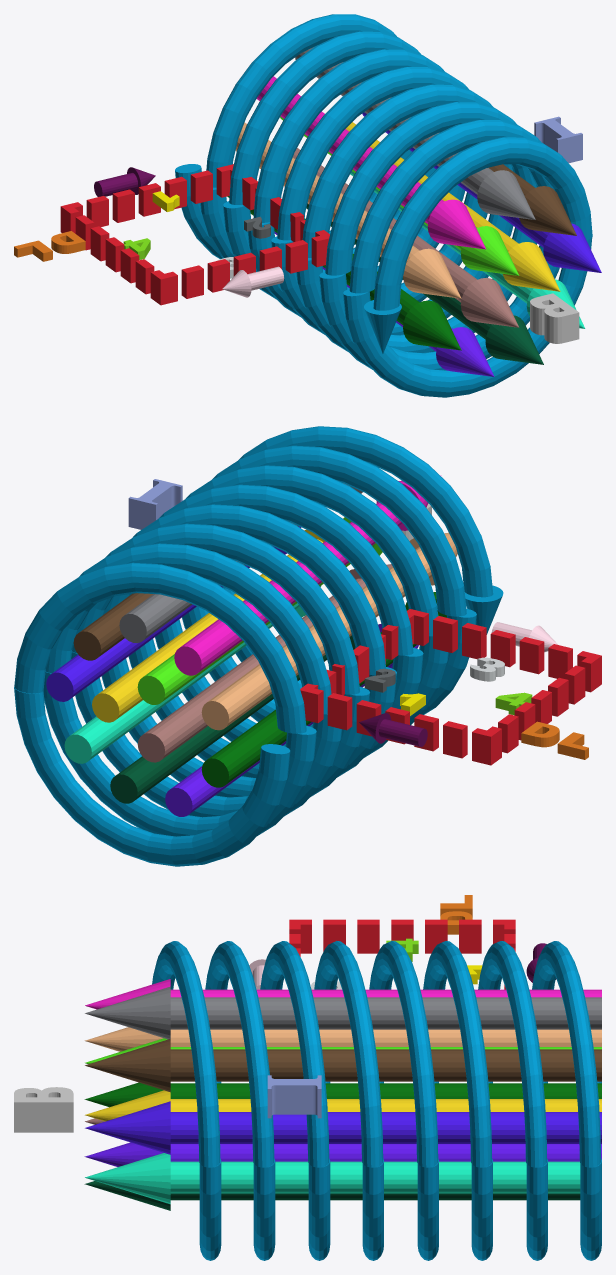
The model's file is Solenoid.obj.
The picture shows the model from 3 angles, top to bottom: view 1: azimuth 30°, elevation 25°; view 2: azimuth 150°, elevation 25°; view 3: azimuth 270°, elevation 25°; orthographic projection. The views are drawn at different scales.
Parts seen in each view (by area): view 1: group_0_40919, group_0_15277357, group_0_16064460, group_0_11238520, group_0_8422023, group_0_15774847, group_0_350519, group_0_423183, group_0_16111391, group_0_5382133, group_0_6900786, group_0_0 (+7 smaller); view 2: group_0_40919, group_0_15277357, group_0_11238520, group_0_15774847, group_0_350519, group_0_16064460, group_0_16111391, group_0_2094533, group_0_423183, group_0_5382133, group_0_6900786, group_0_8422023 (+7 smaller); view 3: group_0_40919, group_0_2094533, group_0_6900786, group_0_8422023, group_0_5382133, group_0_6889461, group_0_15774847, group_0_15277357, group_0_423183, group_0_16111391, group_0_16064460, group_0_350519 (+4 smaller).
Part boxes in pixels (x1=…): group_0_40919: x1=175, y1=14, x2=592, y2=397; group_0_15277357: x1=60, y1=164, x2=329, y2=305; group_0_16064460: x1=256, y1=76, x2=486, y2=249; group_0_11238520: x1=292, y1=148, x2=518, y2=327; group_0_8422023: x1=295, y1=47, x2=535, y2=219; group_0_15774847: x1=235, y1=122, x2=461, y2=298; group_0_350519: x1=306, y1=203, x2=543, y2=364; group_0_423183: x1=227, y1=196, x2=461, y2=350; group_0_16111391: x1=346, y1=122, x2=560, y2=291; group_0_5382133: x1=362, y1=112, x2=601, y2=272; group_0_6900786: x1=488, y1=164, x2=576, y2=235; group_0_0: x1=530, y1=293, x2=579, y2=343; group_0_40919: x1=14, y1=426, x2=503, y2=866; group_0_15277357: x1=300, y1=609, x2=601, y2=765; group_0_11238520: x1=137, y1=564, x2=392, y2=762; group_0_15774847: x1=201, y1=532, x2=457, y2=730; group_0_350519: x1=110, y1=635, x2=355, y2=803; group_0_16064460: x1=174, y1=475, x2=441, y2=675; group_0_16111391: x1=92, y1=529, x2=324, y2=722; group_0_2094533: x1=64, y1=586, x2=320, y2=763; group_0_423183: x1=201, y1=592, x2=446, y2=787; group_0_5382133: x1=46, y1=526, x2=301, y2=701; group_0_6900786: x1=73, y1=593, x2=152, y2=660; group_0_8422023: x1=119, y1=483, x2=362, y2=643; group_0_40919: x1=152, y1=941, x2=601, y2=1260; group_0_2094533: x1=85, y1=1153, x2=580, y2=1204; group_0_6900786: x1=85, y1=1039, x2=601, y2=1092; group_0_8422023: x1=85, y1=986, x2=601, y2=1039; group_0_5382133: x1=85, y1=1101, x2=601, y2=1154; group_0_6889461: x1=84, y1=1142, x2=601, y2=1166; group_0_15774847: x1=84, y1=1027, x2=601, y2=1051; group_0_15277357: x1=289, y1=919, x2=515, y2=989; group_0_423183: x1=84, y1=1082, x2=601, y2=1107; group_0_16111391: x1=85, y1=1090, x2=601, y2=1121; group_0_16064460: x1=85, y1=979, x2=601, y2=1009; group_0_350519: x1=84, y1=1181, x2=580, y2=1210.
Size of the model in its own units: 57.97 by 30 by 54.53.
